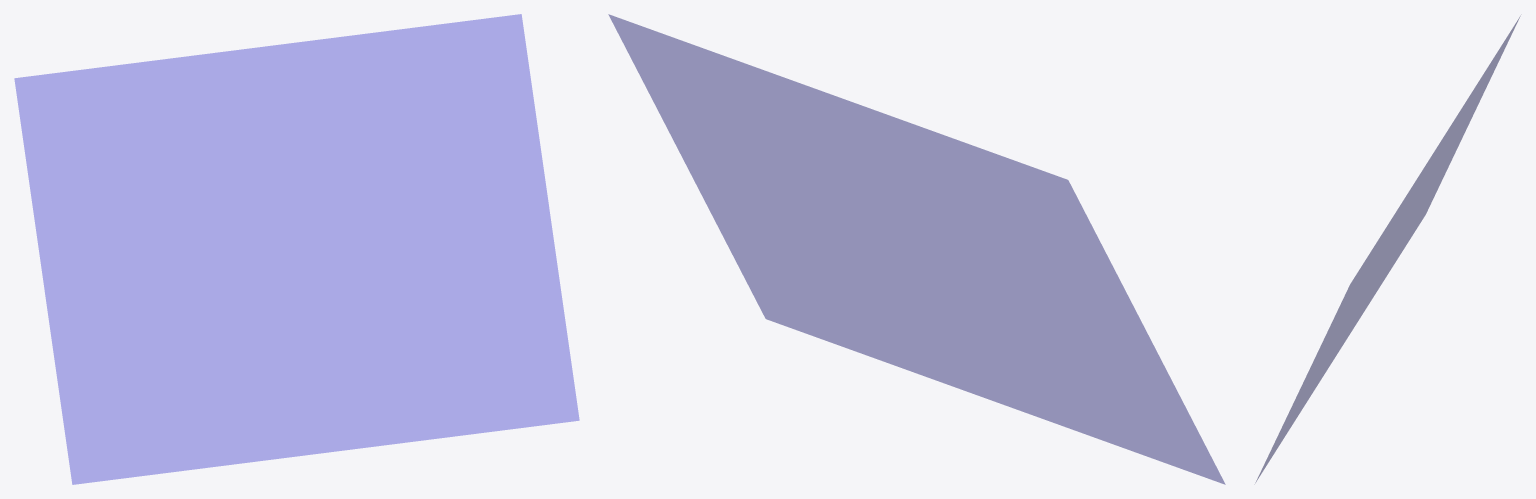
Rendered from fracture_simple.glb.
The picture shows the model from 3 angles, left to right: view 1: azimuth 30°, elevation 25°; view 2: azimuth 150°, elevation 25°; view 3: azimuth 270°, elevation 25°; orthographic projection. The views are drawn at different scales.
Visible parts, largest first — view 1: Plane.001; view 2: Plane.001; view 3: Plane.001.
Part boxes in pixels (bbox=[...]): Plane.001: bbox=[14, 14, 579, 484]; Plane.001: bbox=[608, 14, 1225, 484]; Plane.001: bbox=[1255, 16, 1520, 482].
Bounding box in the file's own units: 0.0901 × 0.0582 × 0.0481.
